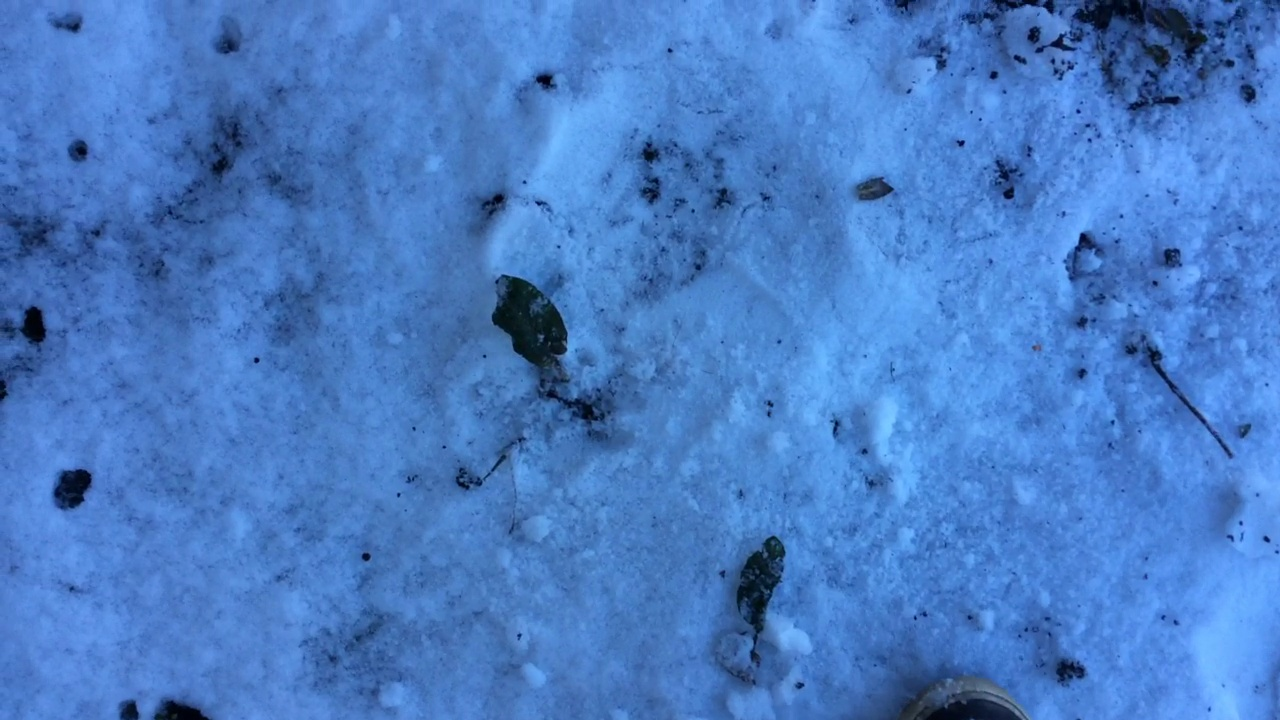root: (536, 372, 576, 408), (735, 649, 771, 688)
rumex: (485, 269, 582, 404), (725, 531, 795, 674)
